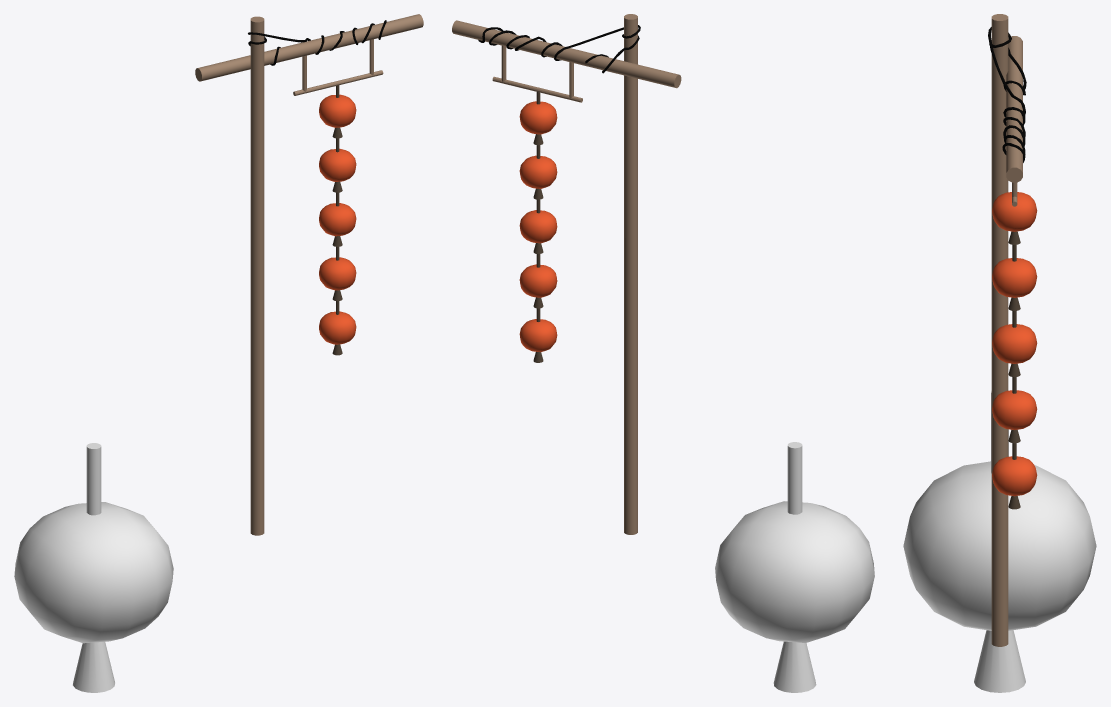
File: LamparaPeu.fbx
The picture shows the model from 3 angles, left to right: view 1: azimuth 30°, elevation 25°; view 2: azimuth 150°, elevation 25°; view 3: azimuth 270°, elevation 25°; orthographic projection. The views are drawn at different scales.
Parts seen in each view (by area): view 1: Cube, BarraVertical, Bolas, BarraHorizontal, Cylinder.001, Cylinder.004, Colgante, BezierCurve; view 2: Cube, BarraVertical, Bolas, BarraHorizontal, Cylinder.001, Cylinder.004, BezierCurve, Colgante; view 3: Cube, BarraVertical, Bolas, Cylinder.001, BarraHorizontal, BezierCurve.
Part boxes in pixels (bbox=[...]): Cube: bbox=[14, 502, 173, 643]; BarraVertical: bbox=[250, 16, 264, 535]; Bolas: bbox=[319, 85, 356, 355]; BarraHorizontal: bbox=[195, 14, 423, 81]; Cylinder.001: bbox=[73, 641, 114, 692]; Cylinder.004: bbox=[86, 443, 101, 515]; Colgante: bbox=[293, 39, 383, 95]; BezierCurve: bbox=[248, 20, 386, 65]; Cube: bbox=[715, 501, 874, 642]; BarraVertical: bbox=[624, 14, 637, 534]; Bolas: bbox=[519, 91, 557, 362]; BarraHorizontal: bbox=[452, 20, 681, 88]; Cylinder.001: bbox=[773, 641, 816, 692]; Cylinder.004: bbox=[787, 442, 802, 514]; BezierCurve: bbox=[478, 25, 640, 73]; Colgante: bbox=[492, 45, 582, 102]; Cube: bbox=[903, 461, 1096, 630]; BarraVertical: bbox=[991, 14, 1008, 646]; Bolas: bbox=[992, 192, 1037, 509]; Cylinder.001: bbox=[974, 630, 1025, 692]; BarraHorizontal: bbox=[1006, 36, 1022, 182]; BezierCurve: bbox=[988, 27, 1026, 162].
Bounding box in the file's own units: 490 × 730 × 168.
